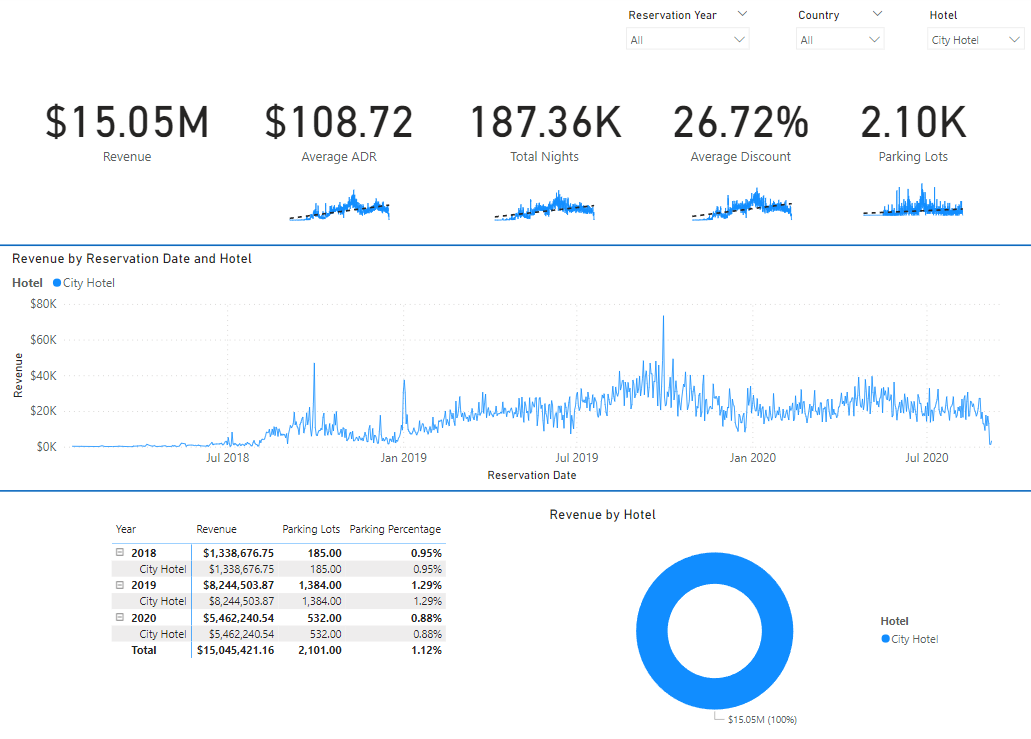

The page's visual inventory and layout, read from the dashboard file:
{"tool":"powerbi","page":{"name":"Hotel","canvas":[1280,920],"ordinal":0},"visuals":[{"type":"shape","box":[0,303.6,1280.6,12.3],"z":0},{"type":"shape","box":[0,605.6,1280.6,13.9],"z":1000},{"type":"card","fields":{"Values":["Sum(Query1.Revenue)"]},"box":[0,83.2,328.2,155.6],"z":2000},{"type":"card","fields":{"Values":["Avg(Query1.adr)"]},"box":[320.5,109.4,209.6,104.8],"z":3000},{"type":"card","fields":{"Values":["Query1.Total Nights"]},"box":[576.3,106.3,205,109.4],"z":4000},{"type":"card","fields":{"Values":["Avg(Query1.Discount)"]},"box":[826,106.3,189.5,109.4],"z":5000},{"type":"lineChart","fields":{"Y":["Sum(Query1.Revenue)"],"Category":["Query1.reservation_status_date"],"Series":["Query1.hotel"]},"box":[17,315.9,1245.2,289.7],"z":6000},{"type":"slicer","fields":{"Values":["Query1.country"]},"box":[978.6,12.3,129.4,60.1],"z":7000},{"type":"slicer","fields":{"Values":["Query1.hotel"]},"box":[1140.4,12.3,140.2,66.3],"z":8000},{"type":"lineChart","fields":{"Category":["Query1.reservation_status_date"],"Y":["Sum(Query1.adr)"]},"box":[349.8,220.4,152.6,64.7],"z":9000},{"type":"lineChart","fields":{"Category":["Query1.reservation_status_date"],"Y":["Query1.Total Nights"]},"box":[602.5,221.9,152.6,63.2],"z":10000},{"type":"lineChart","fields":{"Category":["Query1.reservation_status_date"],"Y":["Sum(Query1.Discount)"]},"box":[846,221.9,152.6,63.2],"z":11000},{"type":"card","fields":{"Values":["Sum(Query1.required_car_parking_spaces)"]},"box":[1043.3,106.3,180.3,109.4],"z":12000},{"type":"lineChart","fields":{"Category":["Query1.reservation_status_date"],"Y":["Sum(Query1.required_car_parking_spaces)"]},"box":[1057.2,215.4,152.6,63.2],"z":13000},{"type":"donutChart","fields":{"Y":["Sum(Query1.Revenue)"],"Category":["Query1.hotel"]},"box":[679.6,631.8,499.3,288.2],"z":14000},{"type":"pivotTable","fields":{"Rows":["Query1.reservation_status_date.Variation.Date Hierarchy.Year","Query1.hotel"],"Values":["Sum(Query1.Revenue)","Sum(Query1.required_car_parking_spaces)","Query1.Parking Percentage"]},"box":[140.2,644.2,477.7,275.8],"z":15000},{"type":"slicer","fields":{"Values":["Query1.reservation_status_date.Variation.Date Hierarchy.Year","Query1.reservation_status_date.Variation.Date Hierarchy.Quarter","Query1.reservation_status_date.Variation.Date Hierarchy.Month","Query1.reservation_status_date.Variation.Date Hierarchy.Day"]},"box":[769,12.3,172.6,89.4],"z":16000}]}

Visuals, with their boxes in screenshot pixels (x1, y1, x2, y2), scaled from the page's 1280x920 canvas onto the 1031x739 screenshot:
shape: select_region(0, 244, 1030, 254)
shape: select_region(0, 486, 1030, 498)
card - Sum(Query1.Revenue): select_region(0, 67, 264, 192)
card - Avg(Query1.adr): select_region(258, 88, 427, 172)
card - Query1.Total Nights: select_region(464, 85, 629, 173)
card - Avg(Query1.Discount): select_region(665, 85, 818, 173)
lineChart - Sum(Query1.Revenue) x Query1.reservation_status_date: select_region(14, 254, 1017, 486)
slicer - Query1.country: select_region(788, 10, 892, 58)
slicer - Query1.hotel: select_region(919, 10, 1030, 63)
lineChart - Query1.reservation_status_date x Sum(Query1.adr): select_region(282, 177, 405, 229)
lineChart - Query1.reservation_status_date x Query1.Total Nights: select_region(485, 178, 608, 229)
lineChart - Query1.reservation_status_date x Sum(Query1.Discount): select_region(681, 178, 804, 229)
card - Sum(Query1.required_car_parking_spaces): select_region(840, 85, 986, 173)
lineChart - Query1.reservation_status_date x Sum(Query1.required_car_parking_spaces): select_region(852, 173, 974, 224)
donutChart - Sum(Query1.Revenue) x Query1.hotel: select_region(547, 508, 950, 738)
pivotTable - Query1.reservation_status_date.Variation.Date Hierarchy.Year x Query1.hotel: select_region(113, 517, 498, 738)
slicer - Query1.reservation_status_date.Variation.Date Hierarchy.Year x Query1.reservation_status_date.Variation.Date Hierarchy.Quarter: select_region(619, 10, 758, 82)
